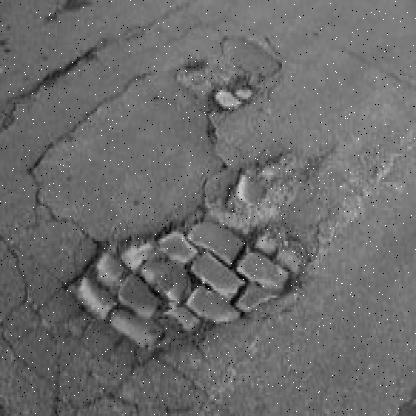crack: (70, 206, 314, 362)
damage: (180, 30, 279, 146)
